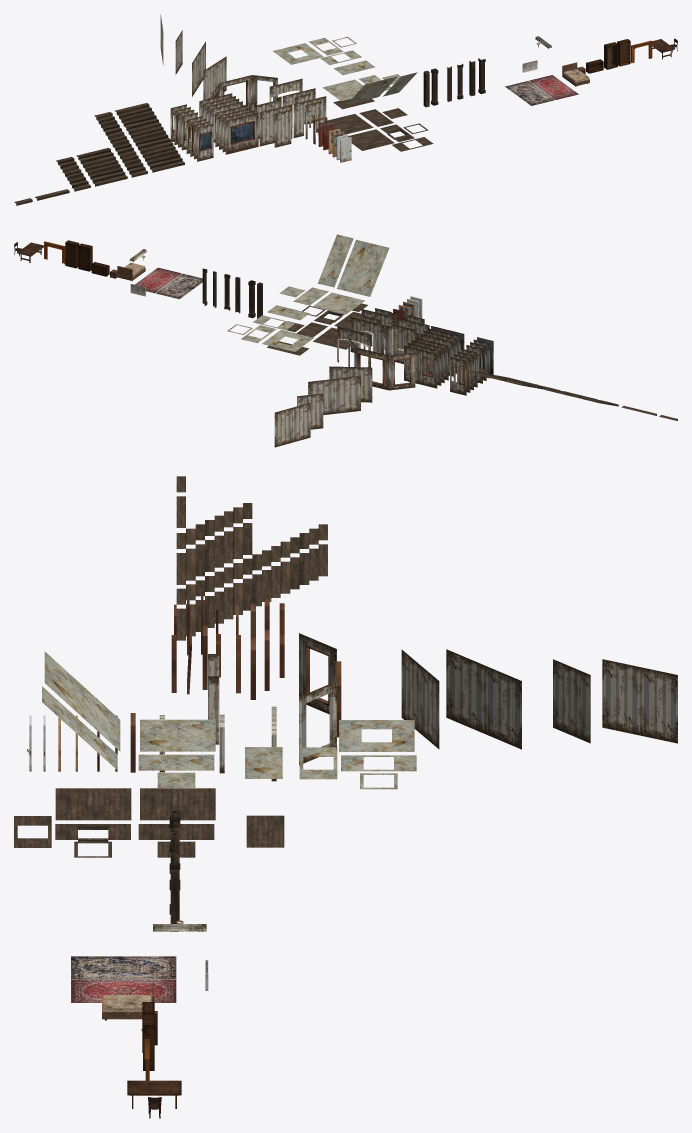
Rendered from Architecture Kit.fbx.
The picture shows the model from 3 angles, top to bottom: view 1: azimuth 30°, elevation 25°; view 2: azimuth 150°, elevation 25°; view 3: azimuth 270°, elevation 25°; orthographic projection. The views are drawn at different scales.
Visible parts, largest first — view 1: Stairs_Wide_Full, Stairs_Narrow_Full, Stairs_Wide_Half, Wall_Window_3x3_01, Wall_3x3, Wall_3x3_Angled_1.5, Wall_BayWindow, Wall_Doorway_3x3, Props_Rug01, Props_Rug02, Wall_3x1.5, Stairs_Narrow_Half (+14 smaller); view 2: Ceiling_3x3_Sloped, Wall_3x3_Angled_3, Wall_1.5x1.5_Angled_3, Wall_BayWindow, Ceiling_1.5x3_Sloped, Wall_3x3_Angled_1.5, Wall_Window_3x3_08, Wall_Fireplace, Wall_Archway_3x3, Ceiling_3x3, Props_Rug02, Wall_1.5x1.5_Angled_1.5 (+12 smaller); view 3: Wall_1.5x1.5_Angled_3, Wall_3x3_Angled_3, Stairs_Wide_Full, Wall_3x3_Angled_1.5, Wall_1.5x1.5_Angled_1.5, Stairs_Narrow_Full, Props_Rug02, Stairs_Wide_Half, Ceiling_3x3_Sloped, Ceiling_3x3, Floor_3x3, Wall_BayWindow (+12 smaller).
Boxes of the visible parts, x1,y1,x2,y2 form: Stairs_Wide_Full: (114, 103, 184, 172); Stairs_Narrow_Full: (94, 112, 147, 177); Stairs_Wide_Half: (76, 148, 127, 186); Wall_Window_3x3_01: (225, 112, 258, 154); Wall_3x3: (259, 104, 292, 146); Wall_3x3_Angled_1.5: (203, 56, 226, 100); Wall_BayWindow: (212, 75, 277, 108); Wall_Doorway_3x3: (293, 96, 326, 137); Props_Rug01: (529, 75, 578, 99); Props_Rug02: (505, 81, 554, 105); Wall_3x1.5: (274, 109, 291, 147); Stairs_Narrow_Half: (56, 157, 90, 191); Ceiling_3x3_Sloped: (337, 239, 389, 296); Wall_3x3_Angled_3: (308, 376, 360, 414); Wall_1.5x1.5_Angled_3: (274, 402, 310, 447); Wall_BayWindow: (348, 336, 415, 390); Ceiling_1.5x3_Sloped: (318, 234, 353, 287); Wall_3x3_Angled_1.5: (329, 366, 372, 402); Wall_Window_3x3_08: (404, 345, 437, 388); Wall_Fireplace: (385, 324, 418, 355); Wall_Archway_3x3: (350, 317, 384, 354); Ceiling_3x3: (313, 292, 364, 314); Props_Rug02: (155, 273, 202, 299); Wall_1.5x1.5_Angled_1.5: (297, 393, 323, 429); Wall_1.5x1.5_Angled_3: (602, 659, 677, 743); Wall_3x3_Angled_3: (446, 649, 521, 749); Stairs_Wide_Full: (176, 544, 327, 640); Wall_3x3_Angled_1.5: (401, 649, 439, 749); Wall_1.5x1.5_Angled_1.5: (553, 659, 590, 743); Stairs_Narrow_Full: (176, 524, 327, 604); Props_Rug02: (71, 956, 176, 979); Stairs_Wide_Half: (176, 523, 252, 584); Ceiling_3x3_Sloped: (44, 651, 120, 751); Ceiling_3x3: (140, 719, 215, 751); Floor_3x3: (140, 788, 215, 820); Wall_BayWindow: (299, 633, 336, 765).
Size of the model in its own units: 5993 by 620 by 2633.
